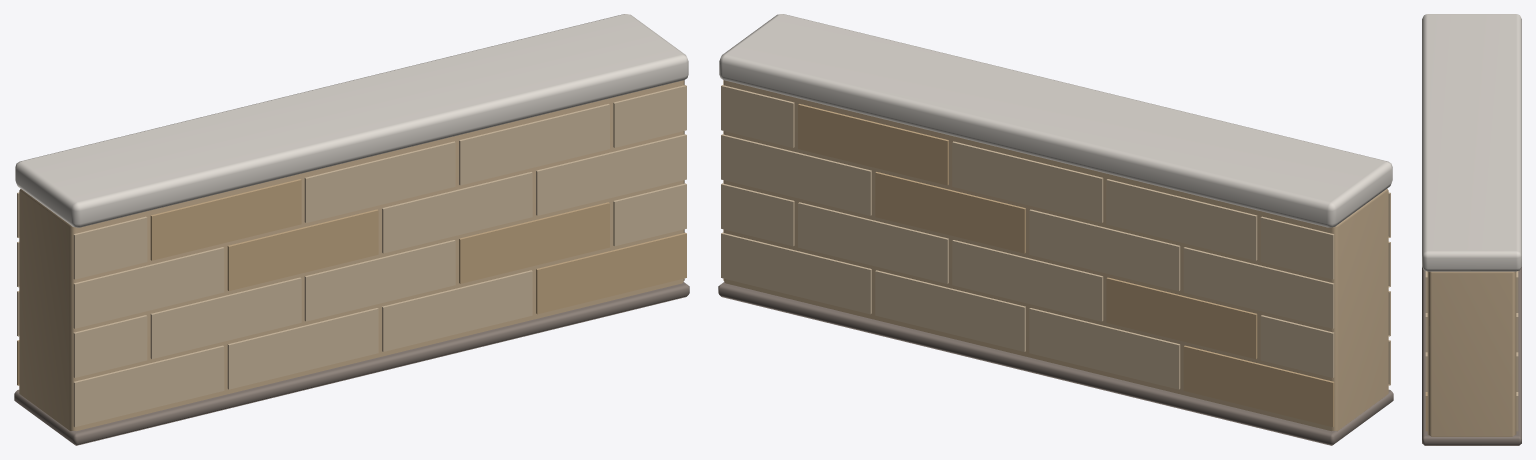
Rendered from block-border.glb.
3 views of the same model, side by side, from view 1: azimuth 30°, elevation 25°; view 2: azimuth 150°, elevation 25°; view 3: azimuth 270°, elevation 25° (orthographic). The views are drawn at different scales.
Visible parts, largest first — view 1: block-border; view 2: block-border; view 3: block-border.
Boxes of the visible parts, x1,y1,x2,y2 form: block-border: (14,14,689,445); block-border: (718,14,1393,445); block-border: (1422,14,1521,445).
Size of the model in its own units: 4 by 1.5 by 0.7.
